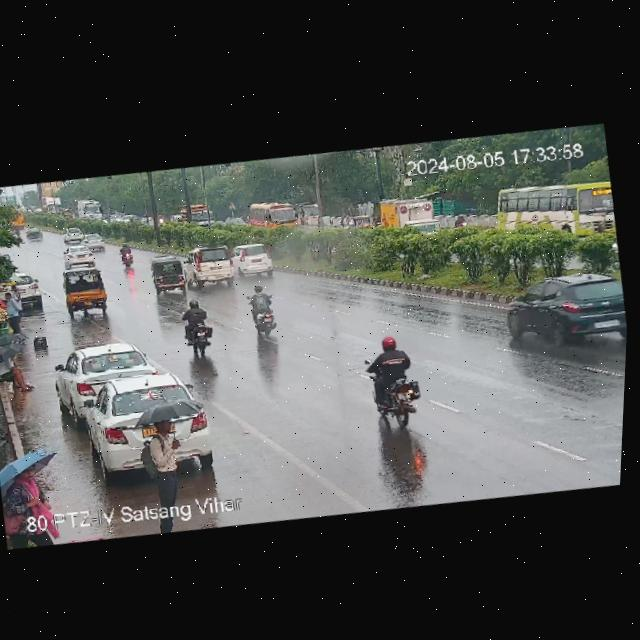bus: (494, 172, 618, 254), (245, 197, 307, 236), (75, 194, 103, 221), (11, 209, 25, 231)
car: (64, 365, 214, 488), (493, 261, 630, 358), (53, 335, 163, 412), (186, 242, 239, 292), (58, 267, 109, 316), (233, 242, 281, 282), (151, 257, 191, 298), (62, 243, 100, 269), (338, 212, 378, 235), (79, 231, 109, 253), (63, 225, 91, 245), (27, 228, 44, 243)
motorcycle: (356, 330, 429, 431), (177, 293, 224, 356), (242, 283, 288, 341), (115, 243, 140, 270), (452, 213, 472, 229)
person: (136, 411, 195, 502), (0, 458, 58, 528), (0, 353, 35, 396), (0, 291, 26, 336), (7, 282, 21, 296)
truck: (375, 192, 445, 243), (179, 203, 217, 232), (38, 195, 64, 219)
